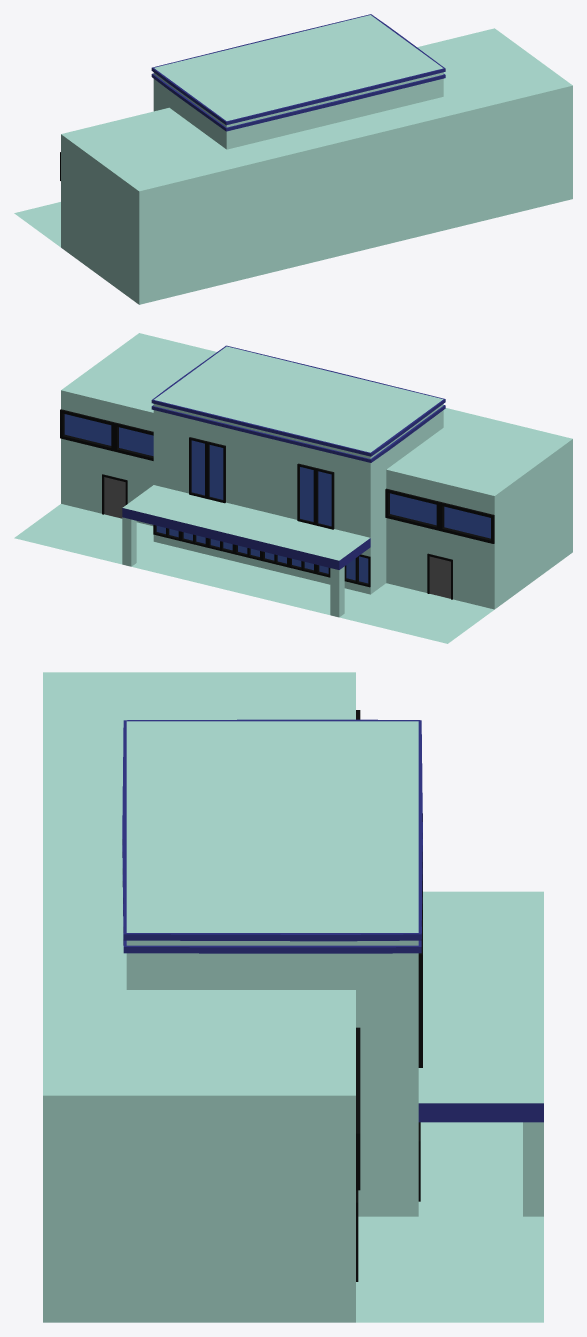
File: Building8.fbx
3 renders of one model, top to bottom at view 1: azimuth 30°, elevation 25°; view 2: azimuth 150°, elevation 25°; view 3: azimuth 270°, elevation 25°, orthographic. The views are drawn at different scales.
Visible parts, largest first — view 1: Building8; view 2: Building8; view 3: Building8.
Boxes of the visible parts, box(x1,y1,x2,y2) form: Building8: box(14, 14, 572, 304); Building8: box(14, 333, 572, 643); Building8: box(43, 672, 543, 1322).
Bounding box in the file's own units: 2400 × 750 × 1200.
